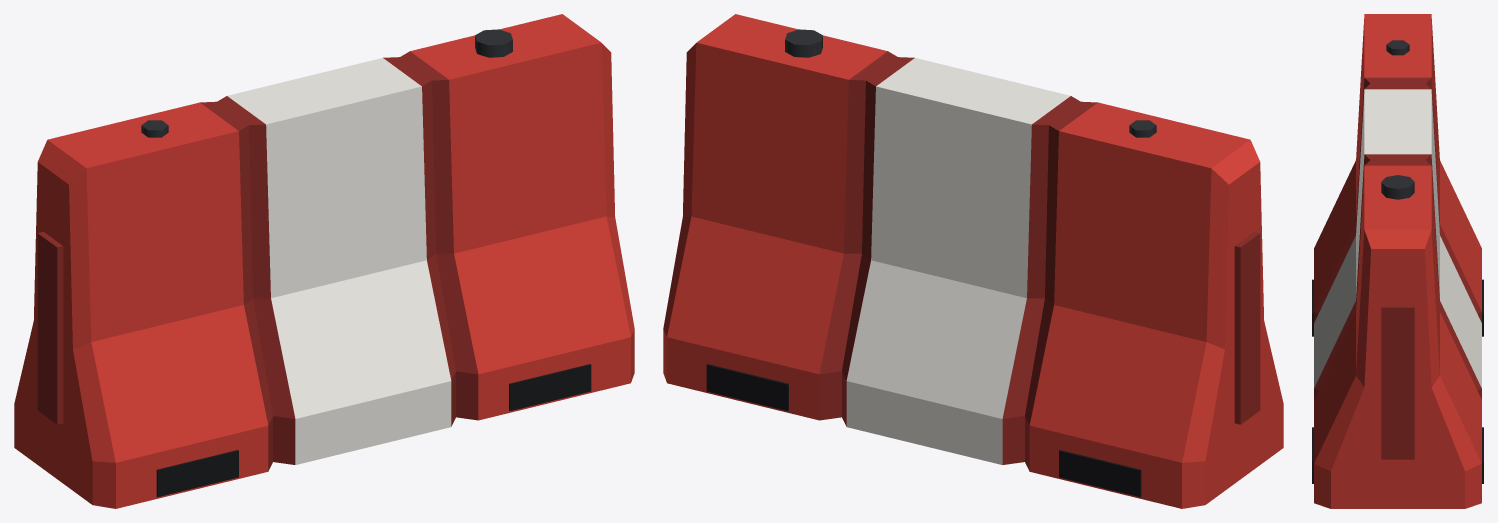
Rendered from barrier_plastic.glb.
The picture shows the model from 3 angles, left to right: view 1: azimuth 30°, elevation 25°; view 2: azimuth 150°, elevation 25°; view 3: azimuth 270°, elevation 25°; orthographic projection. The views are drawn at different scales.
Parts seen in each view (by area): view 1: barrier_plastic__mesh; view 2: barrier_plastic__mesh; view 3: barrier_plastic__mesh.
Part boxes in pixels (bbox=[...]): barrier_plastic__mesh: bbox=[14, 14, 634, 508]; barrier_plastic__mesh: bbox=[663, 14, 1283, 508]; barrier_plastic__mesh: bbox=[1312, 14, 1483, 508].
Size of the model in its own units: 1.63 by 0.935 by 0.512.
1 material, 1 textured.
